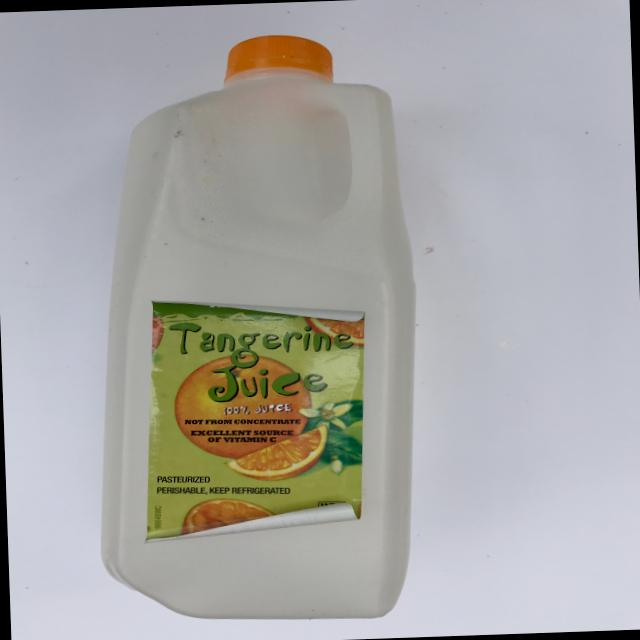Plastic: (56, 9, 494, 640)
